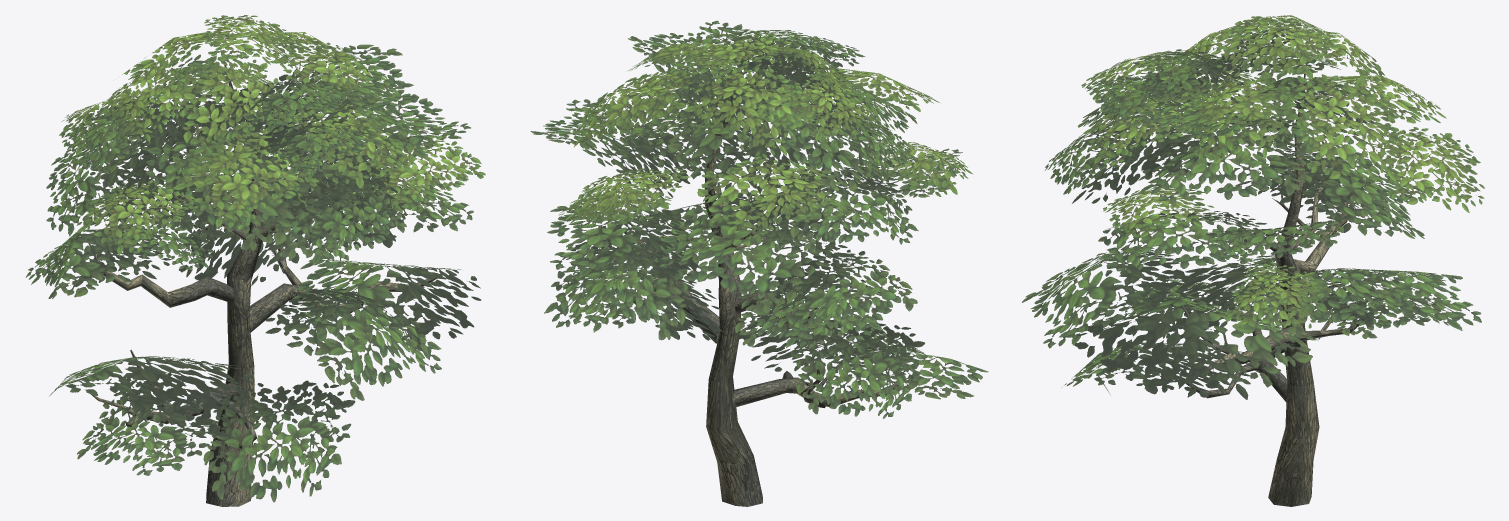
Rendered from tree1.glb.
3 views of the same model, side by side, from view 1: azimuth 30°, elevation 25°; view 2: azimuth 150°, elevation 25°; view 3: azimuth 270°, elevation 25° (orthographic). The views are drawn at different scales.
Visible parts, largest first — view 1: 树1; view 2: 树1; view 3: 树1.
Part boxes in pixels (x1,y1,x2,y2): 树1: [25, 15, 485, 506]; 树1: [530, 20, 988, 506]; 树1: [1022, 15, 1484, 506].
Size of the model in its own units: 7.07 by 7.43 by 6.85.
Materials: 2 (2 with a texture image).
